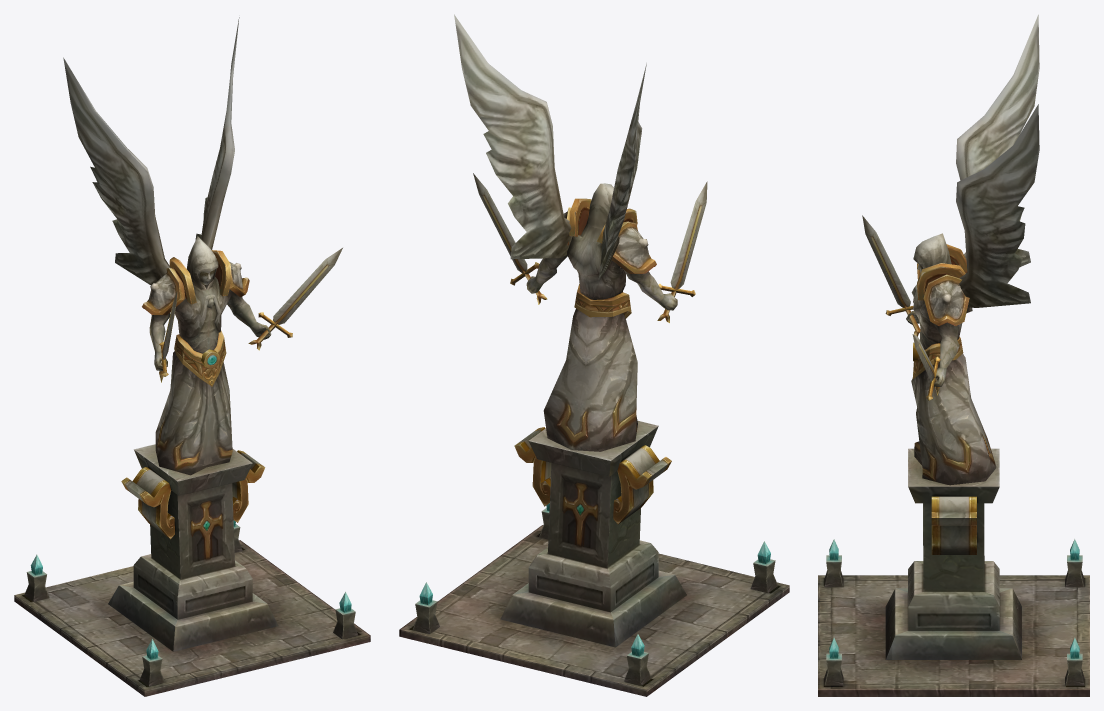
File: AoruoMiracle_Level03.FBX
3 views of the same model, side by side, from view 1: azimuth 30°, elevation 25°; view 2: azimuth 150°, elevation 25°; view 3: azimuth 270°, elevation 25° (orthographic). The views are drawn at different scales.
Visible parts, largest first — view 1: AoruoMiracle_Level03, AoruoMiracle_Level03_A, AoruoMiracle_Level03_B, AoruoMiracle_Level03_C; view 2: AoruoMiracle_Level03, AoruoMiracle_Level03_A, AoruoMiracle_Level03_C, AoruoMiracle_Level03_B; view 3: AoruoMiracle_Level03, AoruoMiracle_Level03_A, AoruoMiracle_Level03_C, AoruoMiracle_Level03_B.
Boxes of the visible parts, x1=… form: AoruoMiracle_Level03: x1=14, y1=444, x2=370, y2=696; AoruoMiracle_Level03_A: x1=142, y1=236, x2=342, y2=475; AoruoMiracle_Level03_B: x1=63, y1=57, x2=170, y2=285; AoruoMiracle_Level03_C: x1=195, y1=17, x2=239, y2=249; AoruoMiracle_Level03: x1=399, y1=420, x2=789, y2=696; AoruoMiracle_Level03_A: x1=473, y1=173, x2=707, y2=451; AoruoMiracle_Level03_C: x1=454, y1=14, x2=572, y2=259; AoruoMiracle_Level03_B: x1=598, y1=63, x2=646, y2=279; AoruoMiracle_Level03: x1=818, y1=448, x2=1089, y2=696; AoruoMiracle_Level03_A: x1=862, y1=215, x2=996, y2=485; AoruoMiracle_Level03_C: x1=956, y1=104, x2=1039, y2=307; AoruoMiracle_Level03_B: x1=956, y1=14, x2=1039, y2=273.
Size of the model in its own units: 540 by 1178 by 500.
